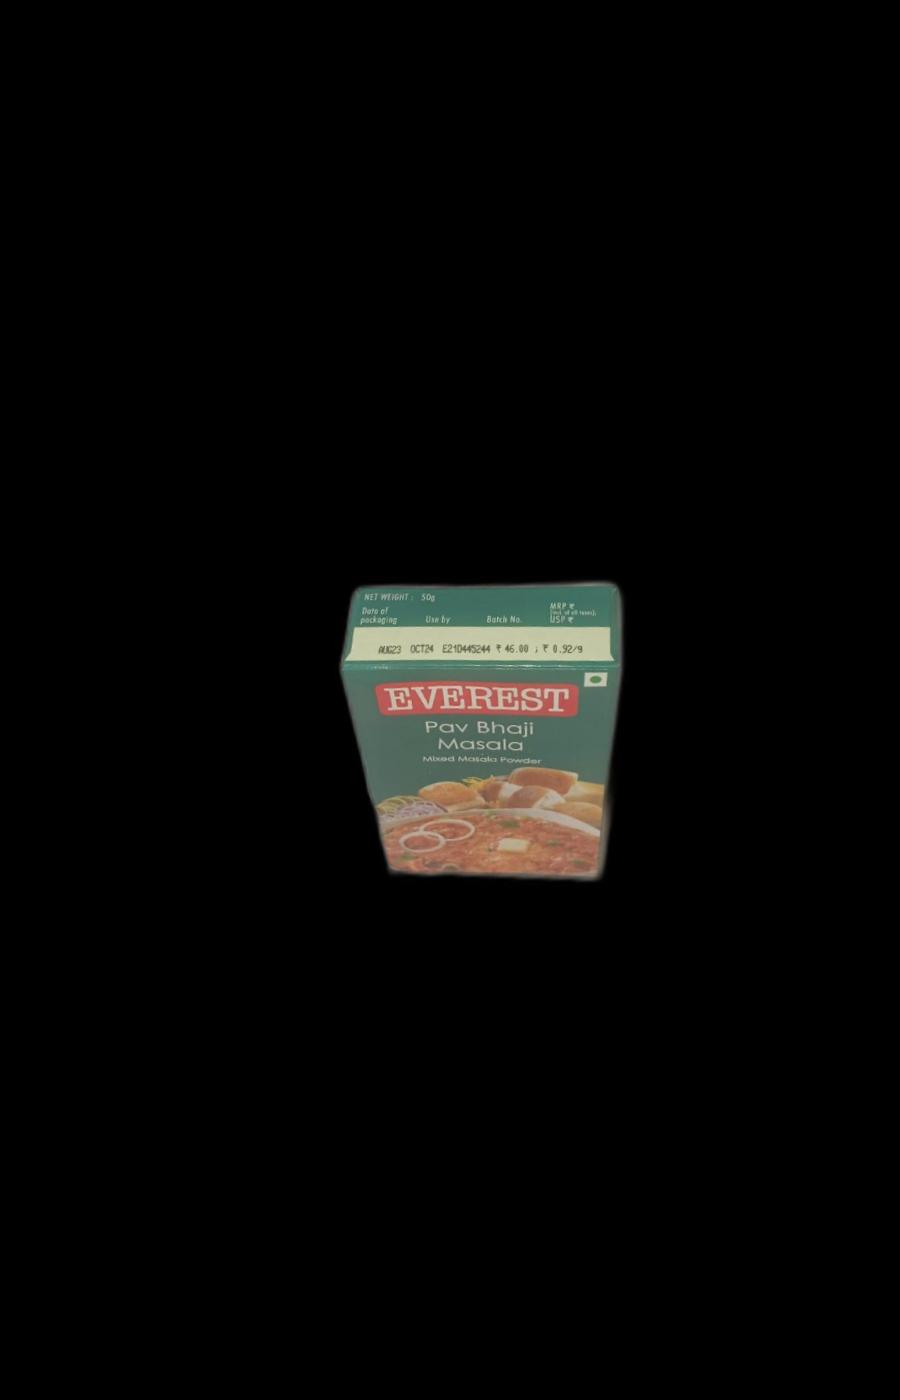Everest Pav Bhaji Masala 100 g: (319, 545, 660, 910)
